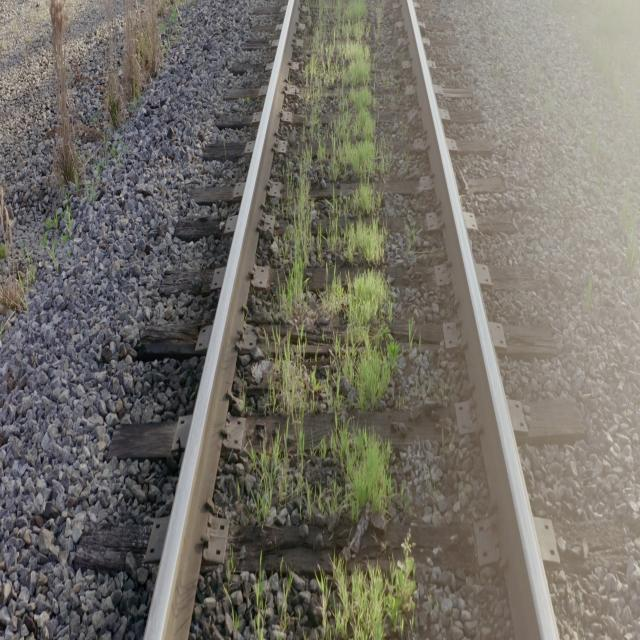Plant: (305, 0, 399, 413), (295, 416, 392, 520), (319, 542, 415, 639), (276, 147, 311, 322), (276, 338, 319, 427), (252, 436, 290, 524), (368, 564, 385, 639)
